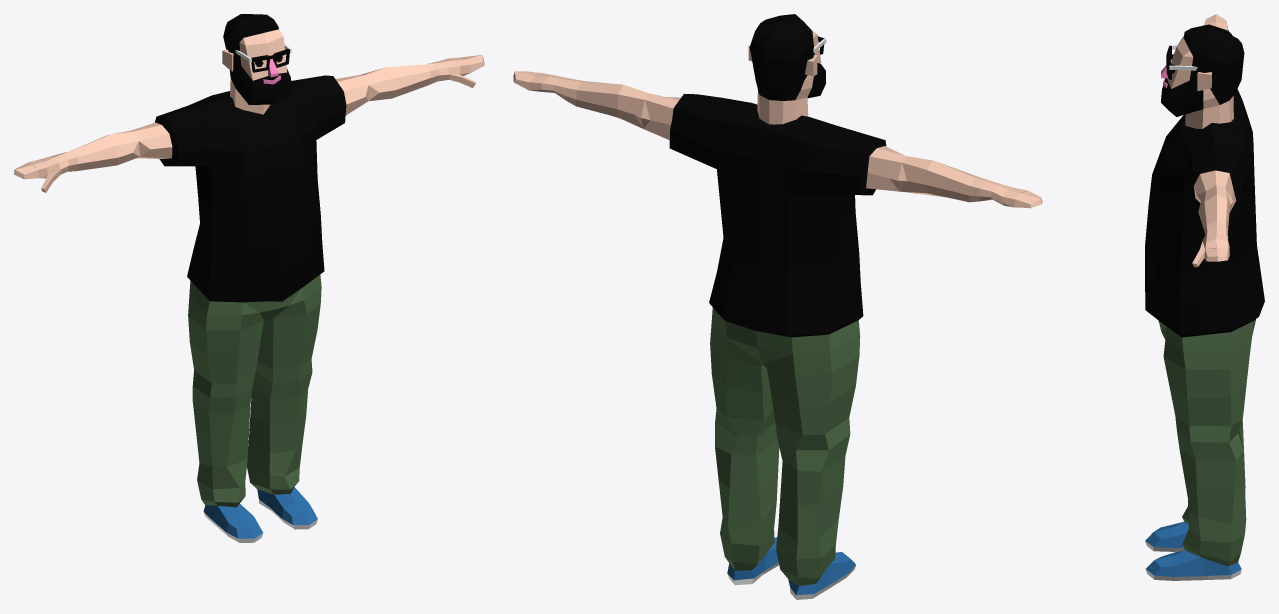
The model's file is August_HiFi.obj.
3 renders of one model, left to right at view 1: azimuth 30°, elevation 25°; view 2: azimuth 150°, elevation 25°; view 3: azimuth 270°, elevation 25°, orthographic. The views are drawn at different scales.
Parts seen in each view (by area): view 1: August_Lowpoly_August_Lowpoly.001; view 2: August_Lowpoly_August_Lowpoly.001; view 3: August_Lowpoly_August_Lowpoly.001.
Part boxes in pixels (x1,y1,x2,y2): August_Lowpoly_August_Lowpoly.001: (14, 14, 484, 542); August_Lowpoly_August_Lowpoly.001: (513, 14, 1042, 599); August_Lowpoly_August_Lowpoly.001: (1145, 14, 1264, 580).
Size of the model in its own units: 23.19 by 25.27 by 7.78.
